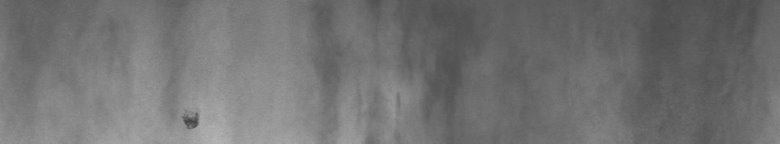fi: (178, 108, 204, 136)
